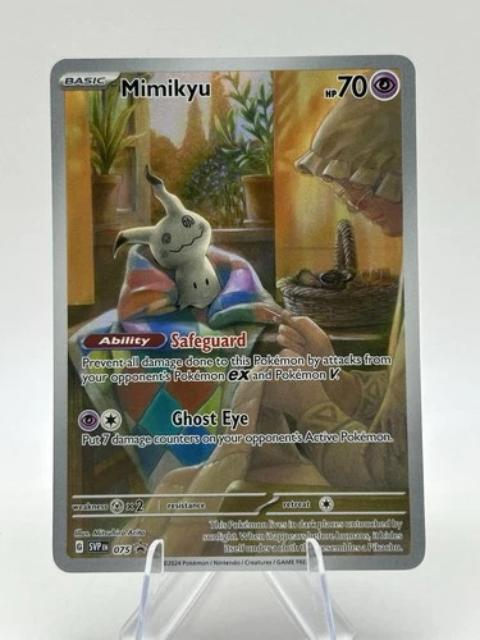Card: (44, 50, 430, 575)
Name: (113, 73, 216, 104)
